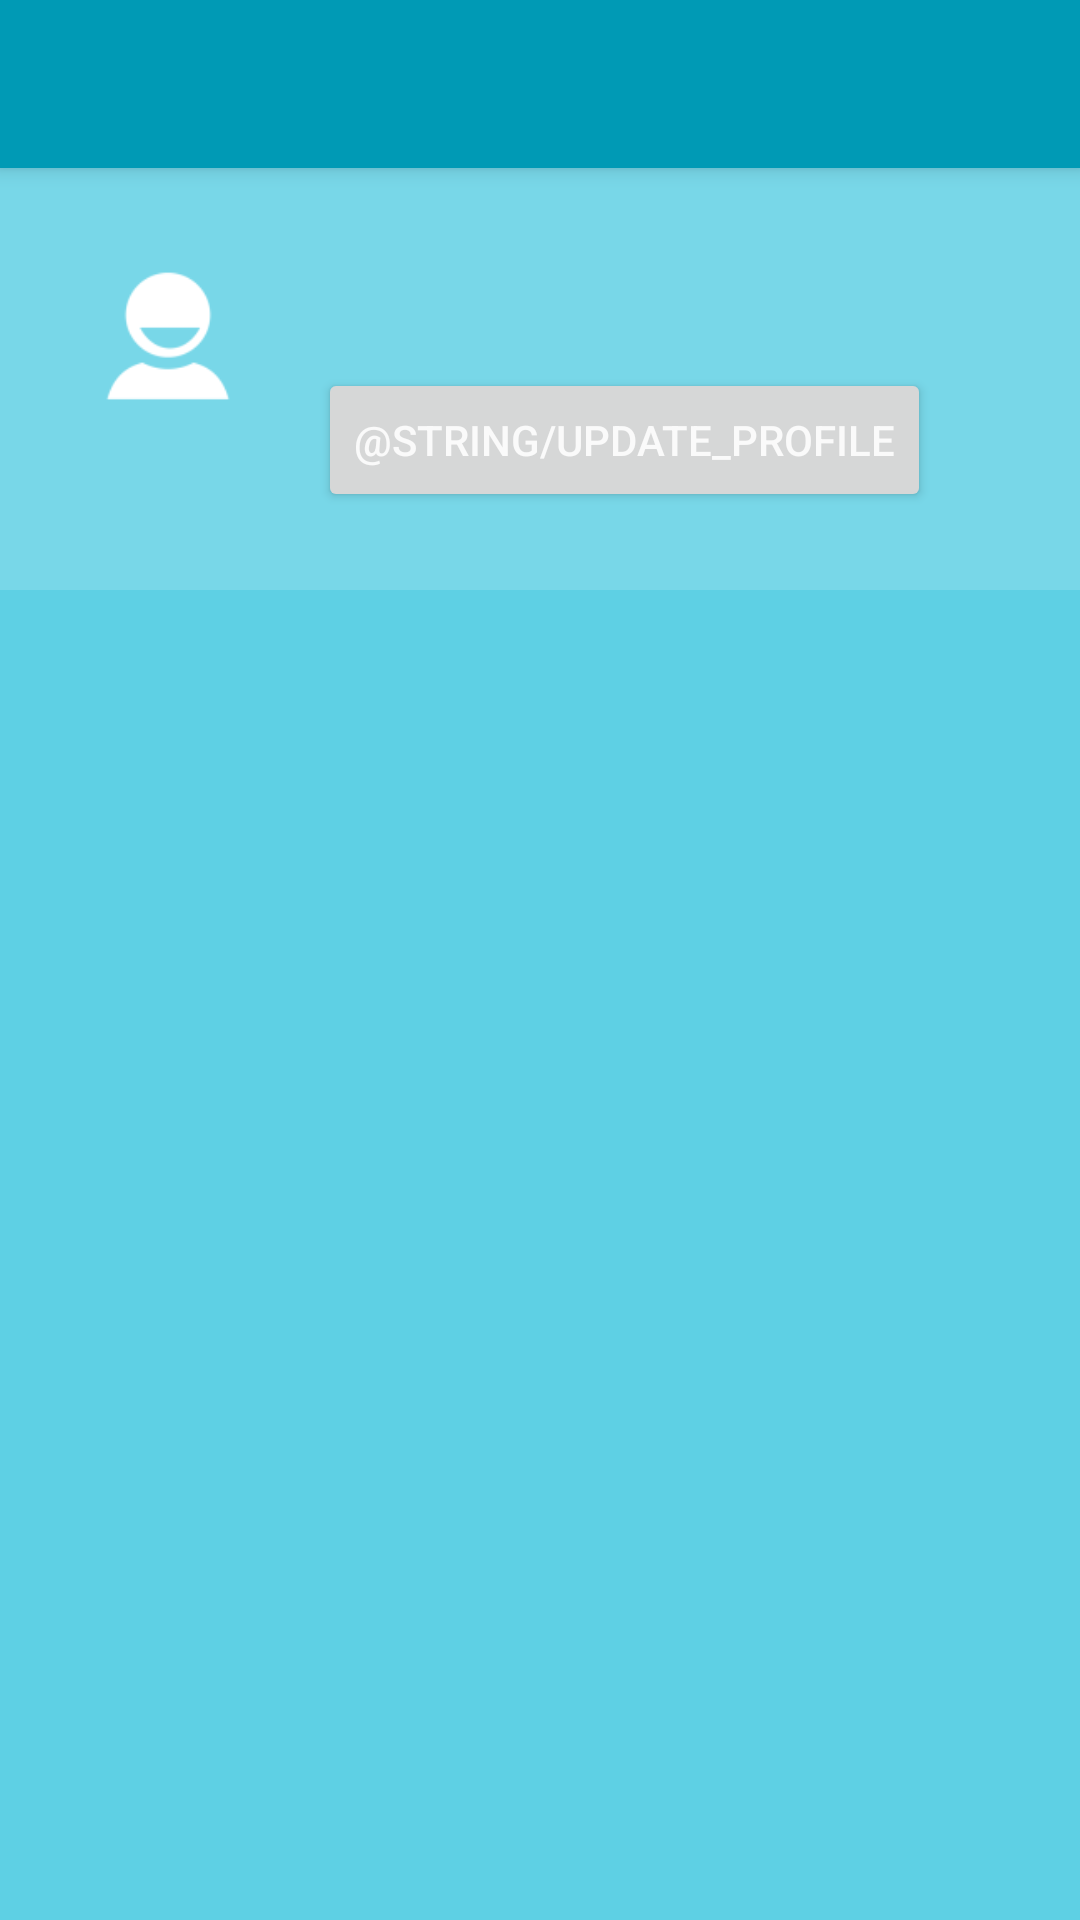

Named icons in this screenshot (1080x1920) and their centers, (x=x, y=y):
user: (x=168, y=336)
